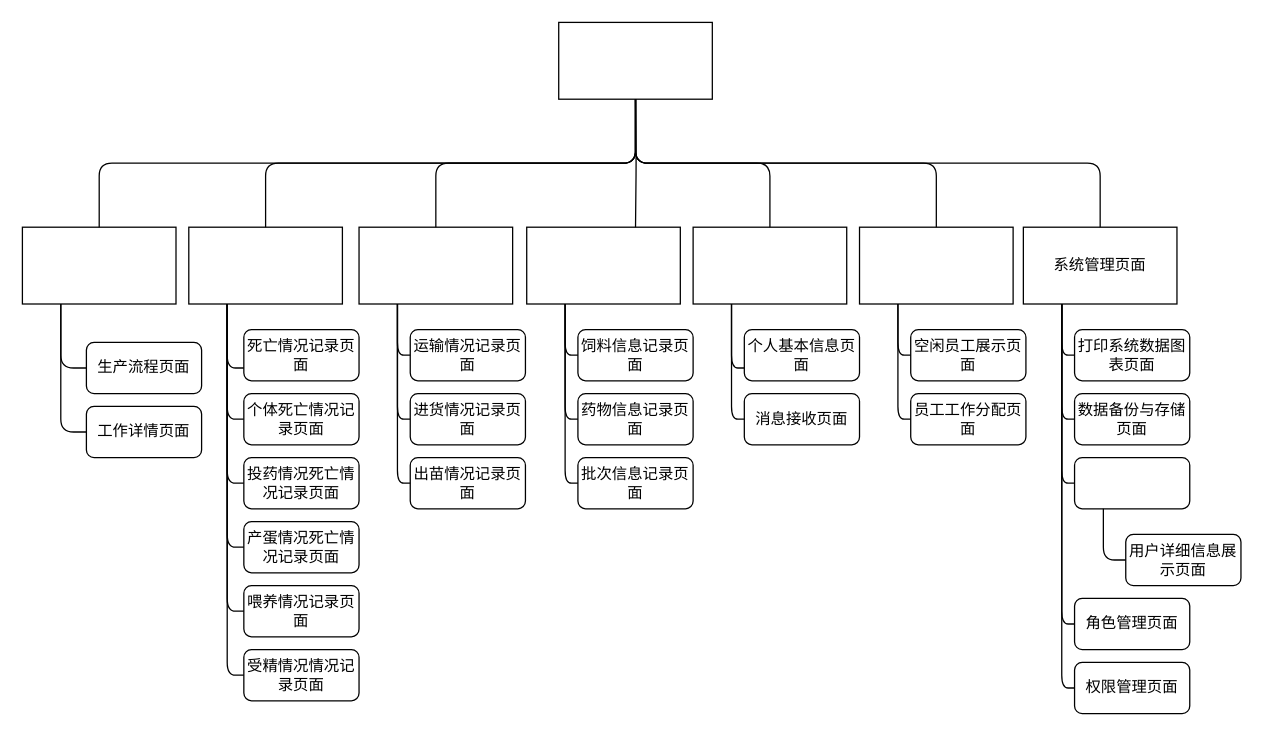
Some shapes in this 1263 by 736 pixel diagram are drawn without their labels. Each missing label, with the centre of its shape:
个人中心页面: point 769,265
养殖页面页面: point 265,265
字段维护页面: point 602,265
工作分配页面: point 935,265
用户管理页面: point 1131,482
登录页面: point 634,60
运输页面: point 435,265
首页: point 98,265
